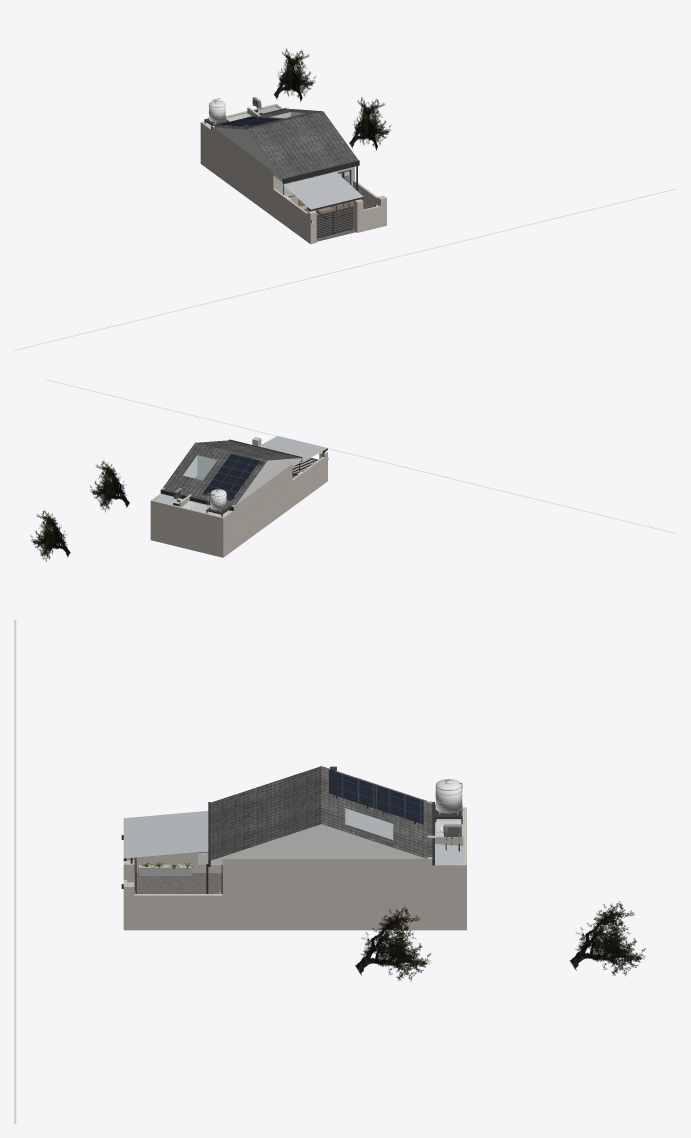
The picture shows the model from 3 angles, top to bottom: view 1: azimuth 30°, elevation 25°; view 2: azimuth 150°, elevation 25°; view 3: azimuth 270°, elevation 25°; orthographic projection. The views are drawn at different scales.
Parts seen in each view (by area): view 1: STATIC_main_tabrak, TREE_D_island_tree_01.001, TREE_D_island_tree_01, STATIC_ground_lewat; view 2: STATIC_main_tabrak, TREE_D_island_tree_01, TREE_D_island_tree_01.001, STATIC_ground_lewat; view 3: STATIC_main_tabrak, TREE_D_island_tree_01.001, TREE_D_island_tree_01, STATIC_ground_lewat.
Boxes of the visible parts, x1,y1,x2,y2 form: STATIC_main_tabrak: [200, 97, 386, 244]; TREE_D_island_tree_01.001: [273, 48, 315, 102]; TREE_D_island_tree_01: [349, 97, 390, 150]; STATIC_ground_lewat: [14, 188, 676, 350]; STATIC_main_tabrak: [150, 436, 328, 557]; TREE_D_island_tree_01: [90, 460, 129, 512]; TREE_D_island_tree_01.001: [30, 510, 70, 561]; STATIC_ground_lewat: [46, 379, 676, 533]; STATIC_main_tabrak: [121, 766, 466, 930]; TREE_D_island_tree_01.001: [569, 901, 645, 975]; TREE_D_island_tree_01: [355, 906, 430, 980]; STATIC_ground_lewat: [14, 620, 16, 1123].
Size of what is drawn, in the model's own units: 50 by 6.3 by 27.8.
66 materials, 14 textured.
